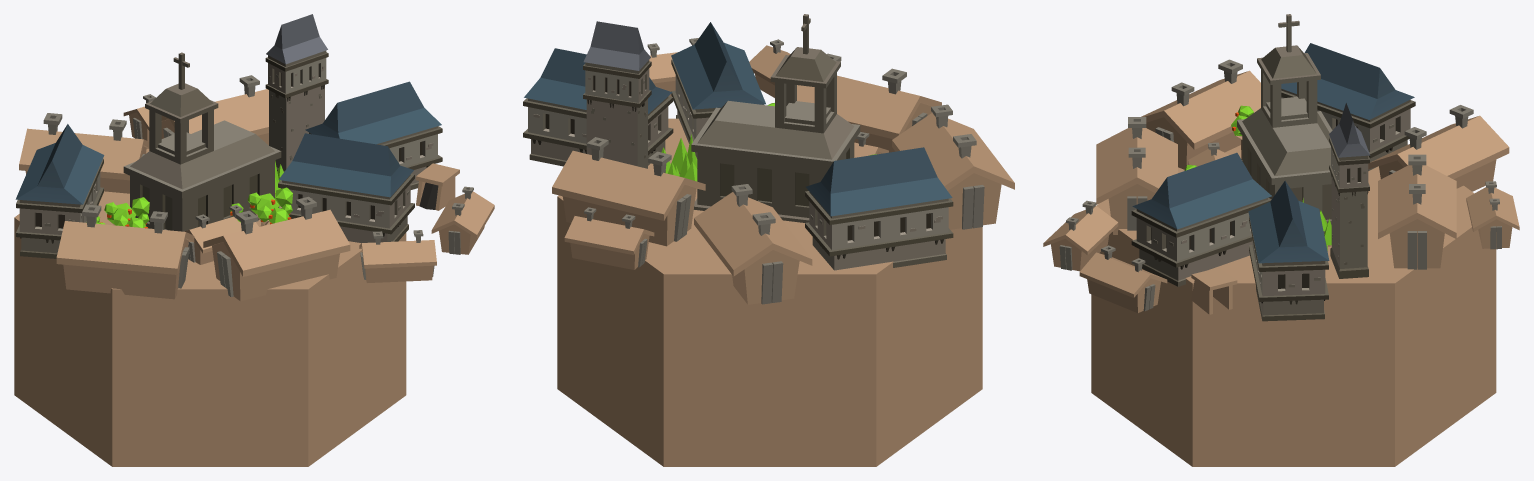
File: Tile_City_Townhall.gltf
3 renders of one model, left to right at view 1: azimuth 30°, elevation 25°; view 2: azimuth 150°, elevation 25°; view 3: azimuth 270°, elevation 25°, orthographic. The views are drawn at different scales.
Visible parts, largest first — view 1: Tile_City_Townhall, SF_Bld_Undead_Crypt_02, SF_Bld_Castle_Keep_03 (1), decorator_building_barracks (1), decorator_building_barracks, SF_Bld_Castle_Keep_03, SF_Bld_Castle_Keep_01, SF_Bld_Castle_Keep_03 (2), decorator_building_barracks (6), decorator_building_barracks (3), decorator_building_barracks (4), decorator_building_barracks (5) (+5 smaller); view 2: Tile_City_Townhall, SF_Bld_Undead_Crypt_02, SF_Bld_Castle_Keep_03, decorator_building_barracks (5), decorator_building_barracks (6), SF_Bld_Castle_Keep_01, SF_Bld_Castle_Keep_03 (2), decorator_building_barracks (1), SF_Bld_Castle_Keep_03 (1), decorator_building_barracks, decorator_building_barracks (7), decorator_building_barracks (3) (+2 smaller); view 3: Tile_City_Townhall, SF_Bld_Castle_Keep_03 (1), SF_Bld_Undead_Crypt_02, SF_Bld_Castle_Keep_03 (2), SF_Bld_Castle_Keep_03, decorator_building_barracks (5), decorator_building_barracks (1), decorator_building_barracks, SF_Bld_Castle_Keep_01, decorator_building_barracks (6), decorator_building_barracks (4), decorator_building_barracks (3) (+3 smaller).
Part boxes in pixels (bbox=[...]): Tile_City_Townhall: bbox=[14, 149, 406, 466]; SF_Bld_Undead_Crypt_02: bbox=[123, 52, 281, 231]; SF_Bld_Castle_Keep_03 (1): bbox=[278, 133, 414, 242]; decorator_building_barracks (1): bbox=[56, 204, 194, 299]; decorator_building_barracks: bbox=[203, 196, 350, 301]; SF_Bld_Castle_Keep_03: bbox=[15, 124, 104, 258]; SF_Bld_Castle_Keep_01: bbox=[265, 14, 328, 171]; SF_Bld_Castle_Keep_03 (2): bbox=[305, 81, 442, 189]; decorator_building_barracks (6): bbox=[19, 113, 149, 193]; decorator_building_barracks (3): bbox=[359, 230, 436, 282]; decorator_building_barracks (4): bbox=[431, 186, 494, 254]; decorator_building_barracks (5): bbox=[161, 75, 268, 145]; Tile_City_Townhall: bbox=[557, 118, 982, 466]; SF_Bld_Undead_Crypt_02: bbox=[691, 14, 860, 222]; SF_Bld_Castle_Keep_03: bbox=[805, 147, 953, 270]; decorator_building_barracks (5): bbox=[552, 137, 705, 246]; decorator_building_barracks (6): bbox=[694, 184, 812, 304]; SF_Bld_Castle_Keep_01: bbox=[583, 21, 651, 168]; SF_Bld_Castle_Keep_03 (2): bbox=[523, 48, 673, 166]; decorator_building_barracks (1): bbox=[892, 104, 1014, 229]; SF_Bld_Castle_Keep_03 (1): bbox=[671, 22, 765, 158]; decorator_building_barracks: bbox=[797, 53, 941, 152]; decorator_building_barracks (7): bbox=[564, 207, 654, 269]; decorator_building_barracks (3): bbox=[749, 39, 790, 97]; Tile_City_Townhall: bbox=[1091, 145, 1496, 466]; SF_Bld_Castle_Keep_03 (1): bbox=[1131, 152, 1271, 286]; SF_Bld_Undead_Crypt_02: bbox=[1237, 14, 1332, 233]; SF_Bld_Castle_Keep_03 (2): bbox=[1248, 181, 1329, 321]; SF_Bld_Castle_Keep_03: bbox=[1281, 43, 1415, 170]; decorator_building_barracks (5): bbox=[1378, 154, 1456, 269]; decorator_building_barracks (1): bbox=[1141, 59, 1260, 169]; decorator_building_barracks: bbox=[1096, 117, 1177, 234]; SF_Bld_Castle_Keep_01: bbox=[1329, 103, 1370, 278]; decorator_building_barracks (6): bbox=[1368, 105, 1509, 191]; decorator_building_barracks (4): bbox=[1079, 245, 1167, 312]; decorator_building_barracks (3): bbox=[1043, 200, 1118, 271].
Bounding box in the file's own units: 2.39 × 1.97 × 2.35.
Materials: 2 (2 with a texture image).
